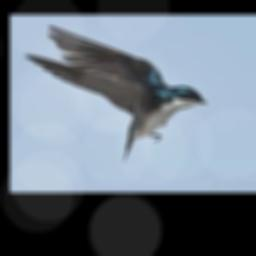Swallow: (25, 25, 206, 163)
